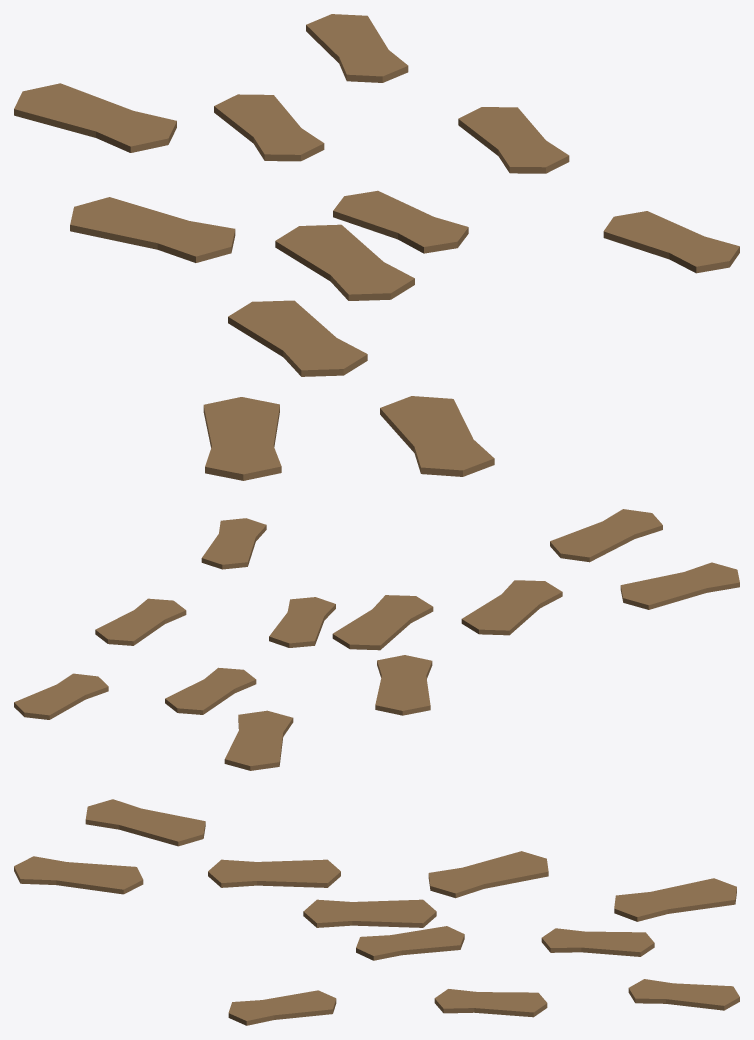
Rendered from Footprints.fbx.
The picture shows the model from 3 angles, top to bottom: view 1: azimuth 30°, elevation 25°; view 2: azimuth 150°, elevation 25°; view 3: azimuth 270°, elevation 25°; orthographic projection. The views are drawn at different scales.
Visible parts, largest first — view 1: Plane; view 2: Plane; view 3: Plane.
Boxes of the visible parts, <box> form: Plane: <box>14,14,739,480</box>; Plane: <box>14,509,739,770</box>; Plane: <box>14,799,739,1025</box>.
Bounding box in the file's own units: 178 × 1.78 × 246.
